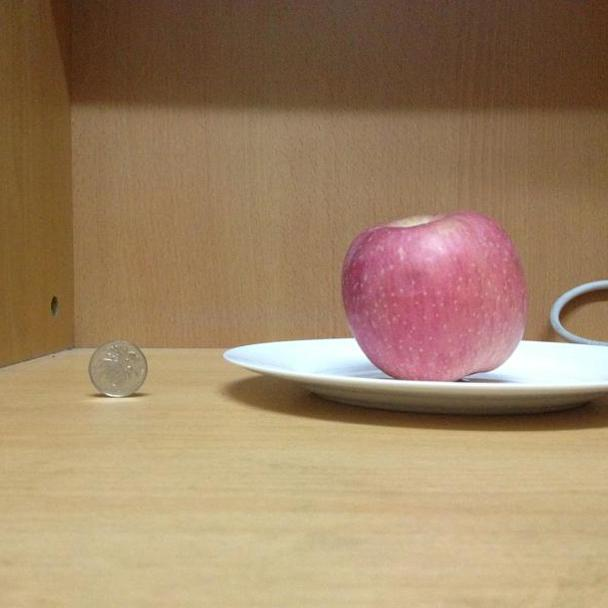apple: (340, 211, 530, 380)
